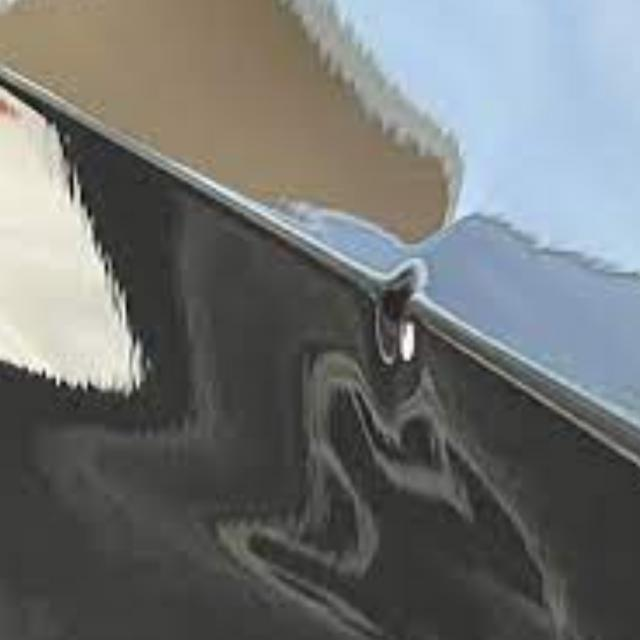dents: (366, 243, 442, 374)
